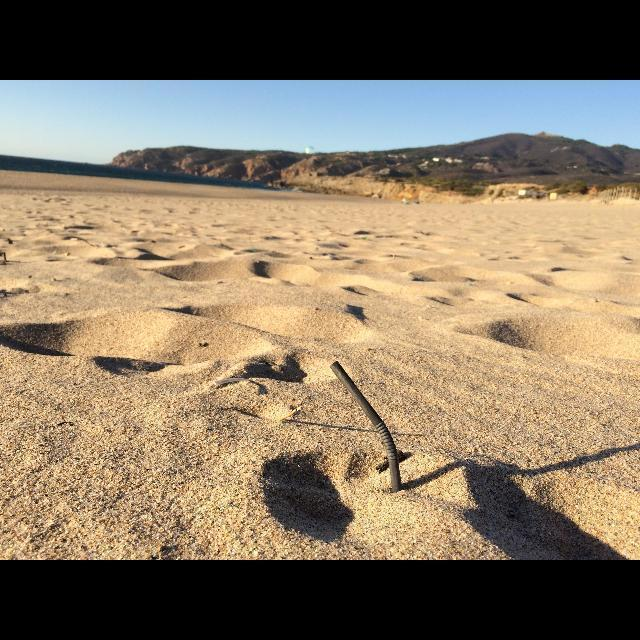Plastic: (330, 361, 402, 493)
